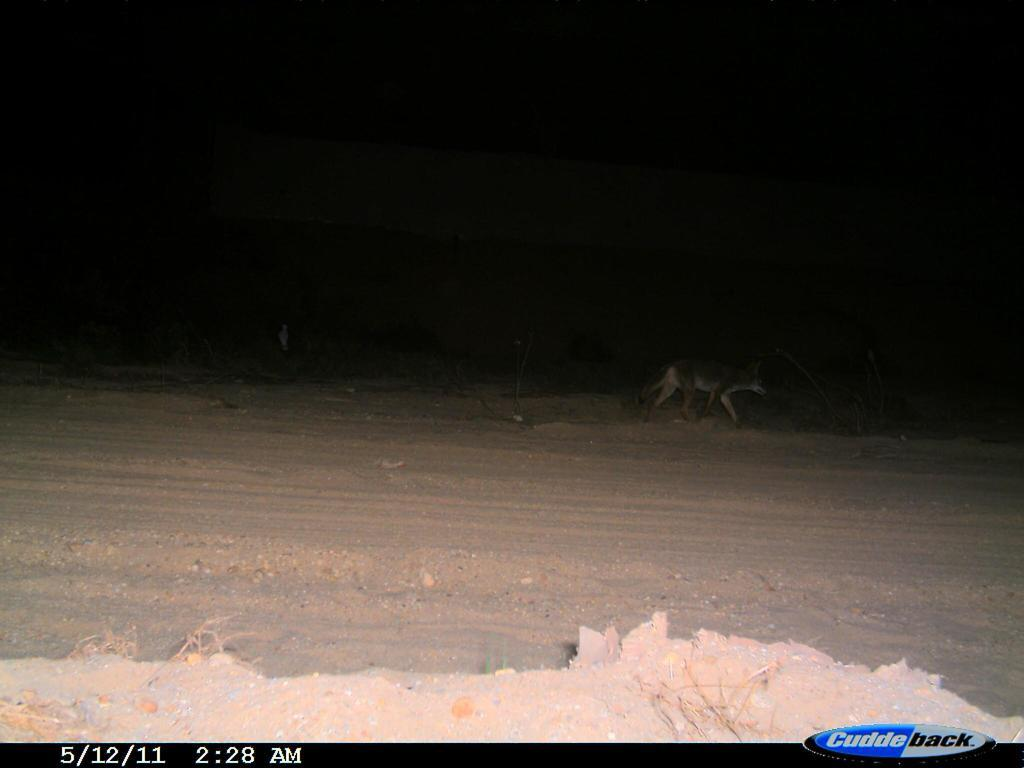coyote: (637, 351, 772, 434)
